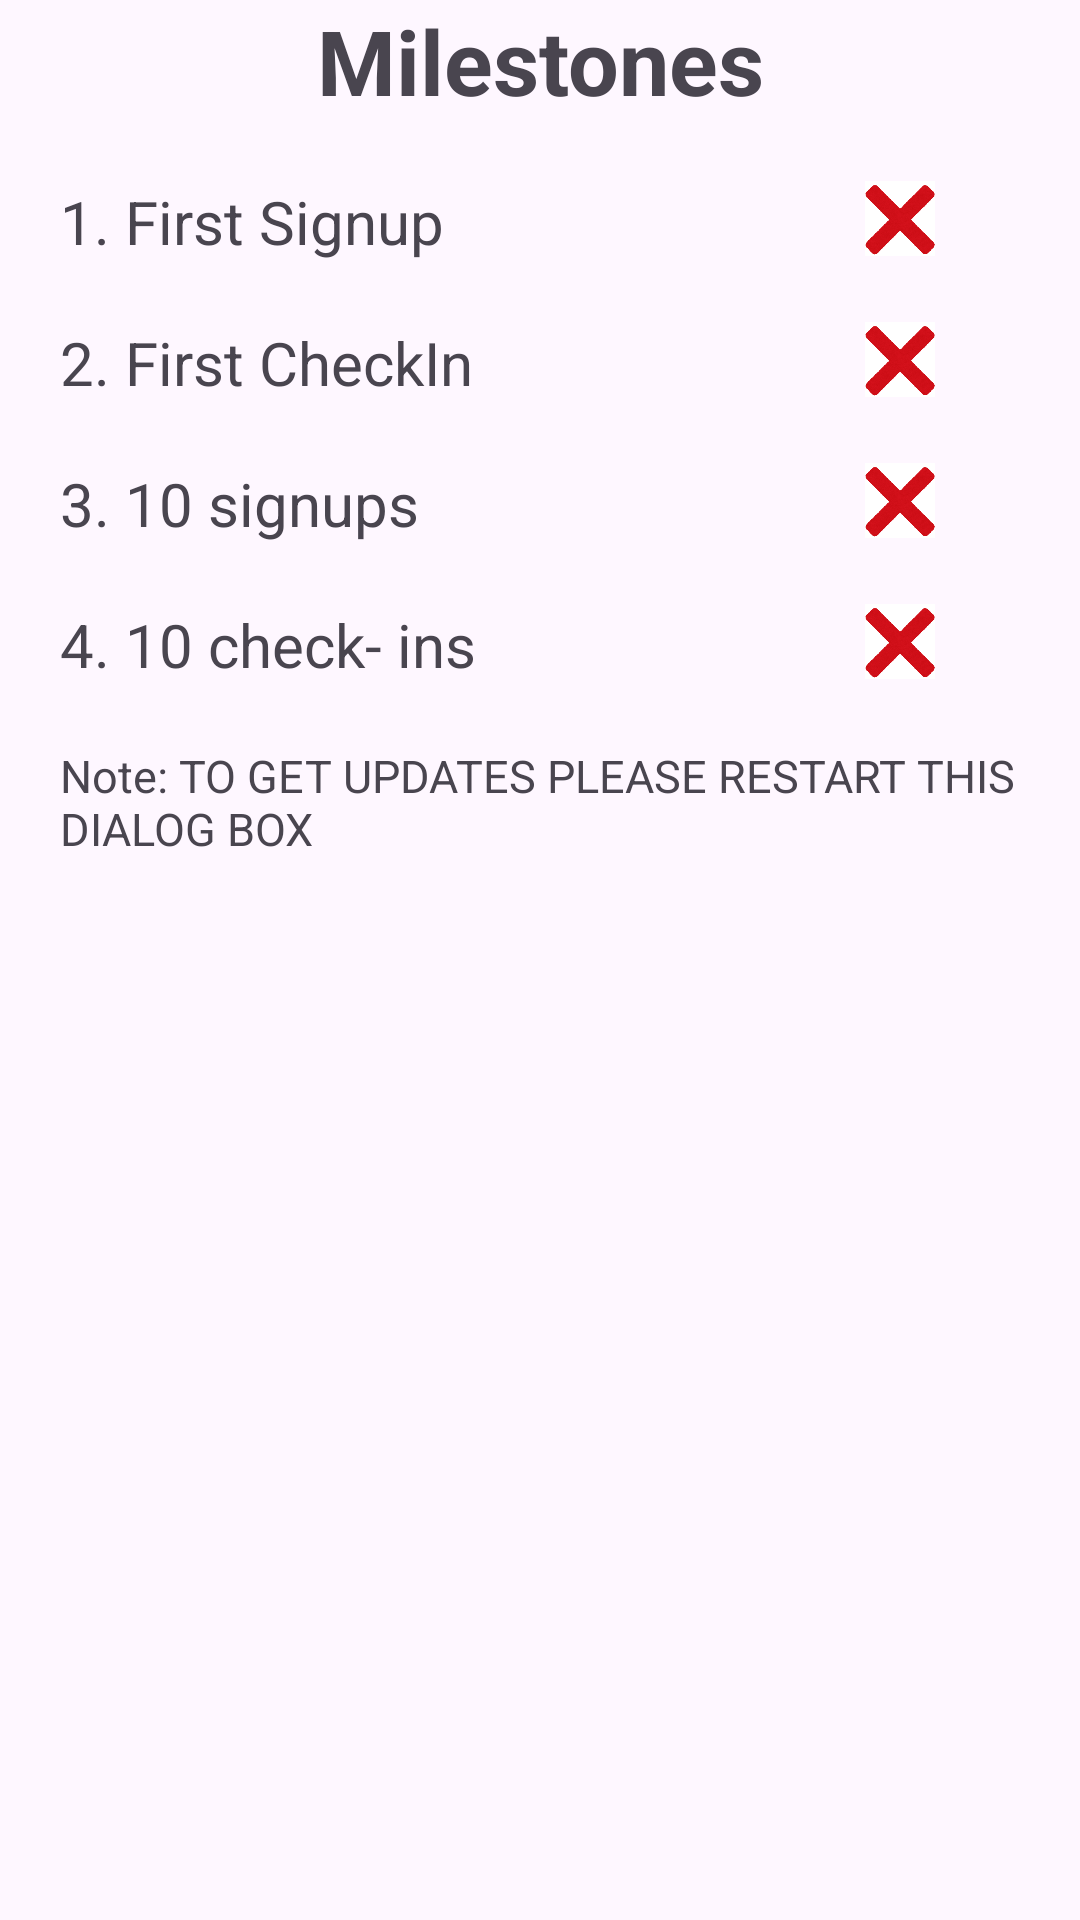

Icon bounding boxes for this 1080×1920 phone screenshot, format (x1, y1, x2, y2):
cross: (865, 185, 935, 255), (865, 326, 935, 396), (865, 467, 935, 537), (865, 608, 935, 678)
